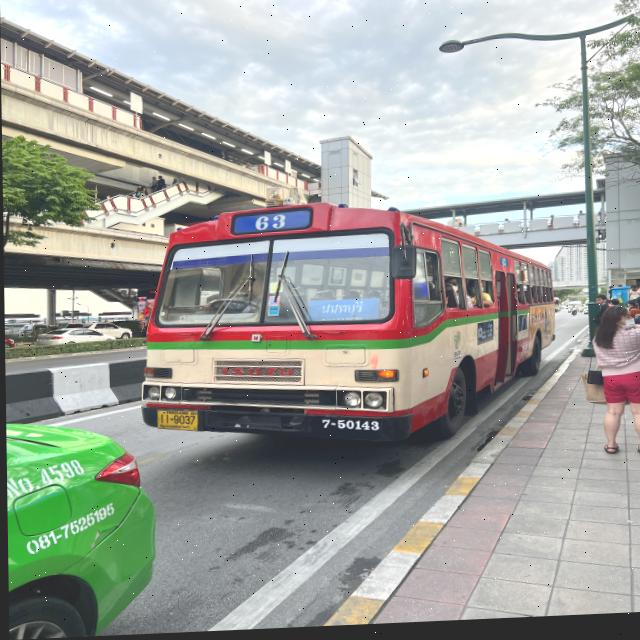BMTA-bus: (134, 197, 558, 458)
Bus-Line-Number: (232, 212, 308, 236)
Destination-Sign-Normal: (307, 300, 378, 326)
